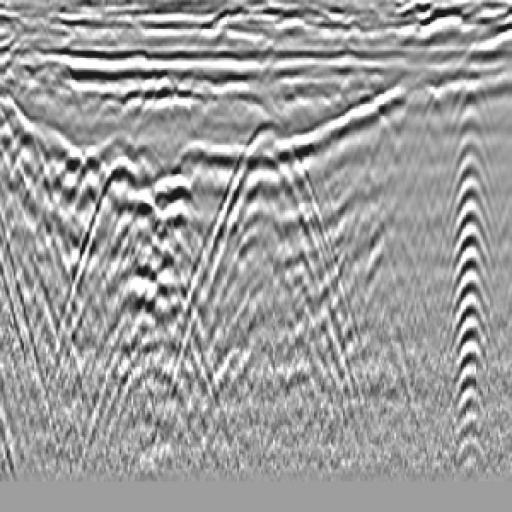metalic: (178, 112, 363, 323)
